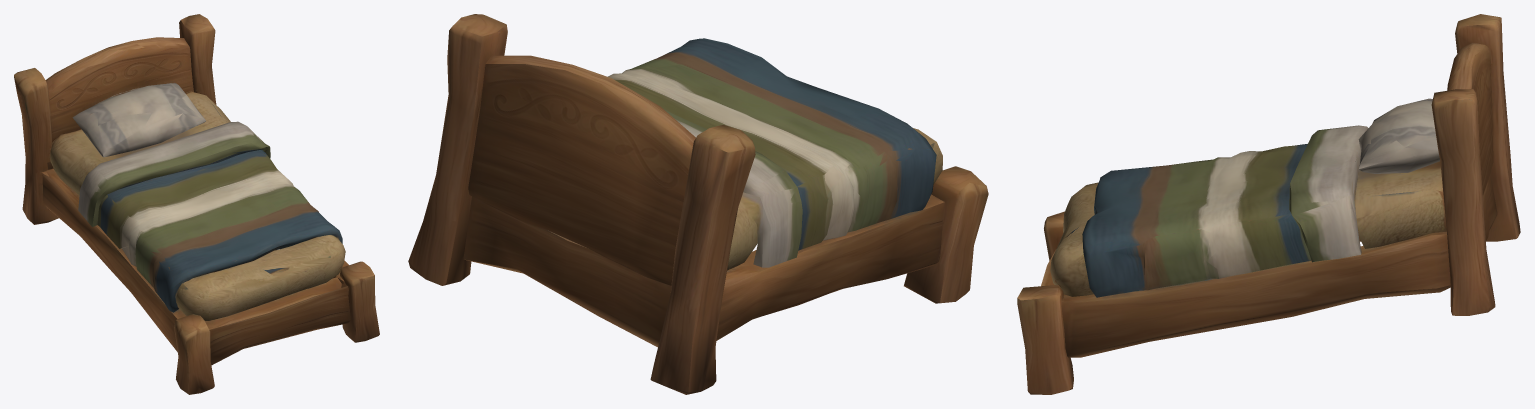
File: Bed.glb
3 views of the same model, side by side, from view 1: azimuth 30°, elevation 25°; view 2: azimuth 150°, elevation 25°; view 3: azimuth 270°, elevation 25° (orthographic). The views are drawn at different scales.
Visible parts, largest first — view 1: Bed; view 2: Bed; view 3: Bed.
Boxes of the visible parts, x1,y1,x2,y2 form: Bed: (14,14,379,394); Bed: (408,14,988,394); Bed: (1017,14,1520,394).
Size of the model in its own units: 1.32 by 1.46 by 2.1.
Materials: 1 (1 with a texture image).
